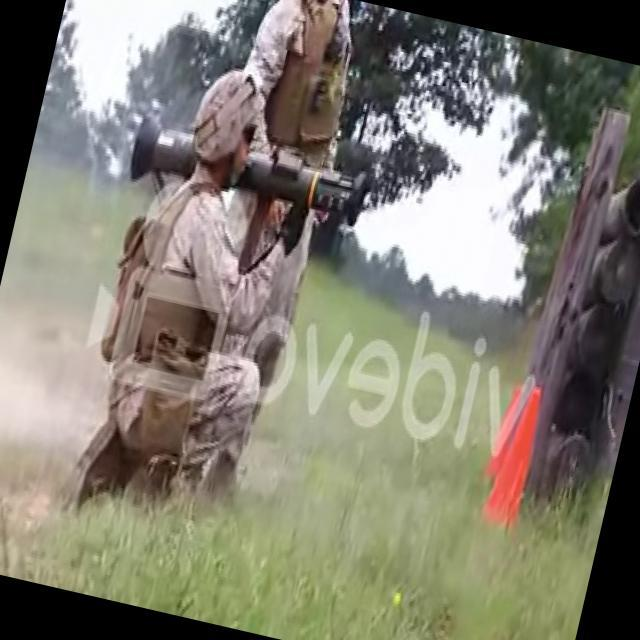rocket: (124, 119, 369, 229)
